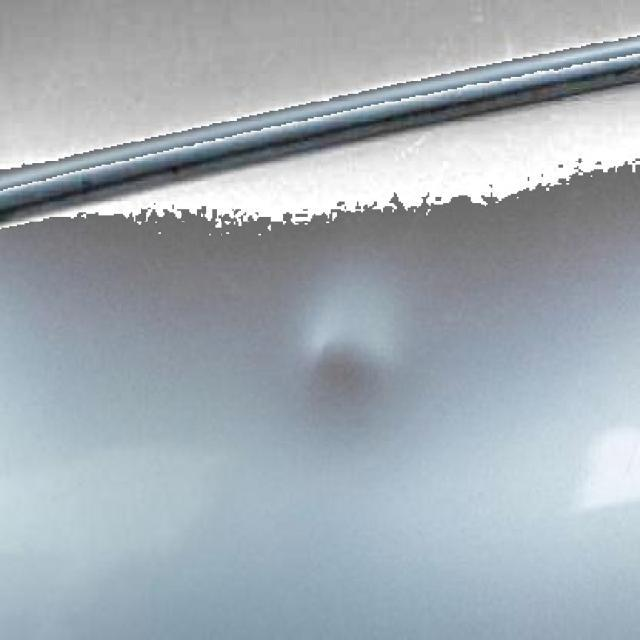dent: (293, 318, 418, 464)
